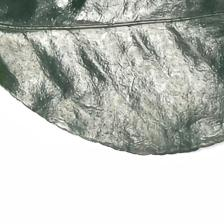healthy: (7, 3, 224, 145)
